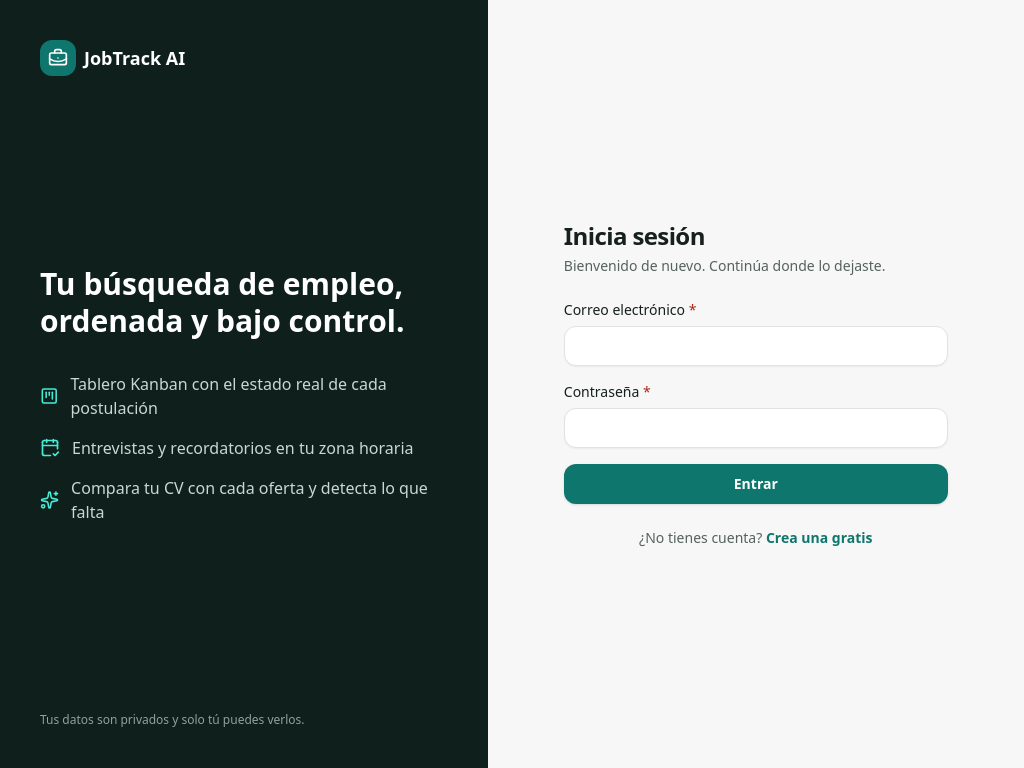
Test case: login › shows the API error for wrong credentials
Type "ana@test.local" into the field labelled "Correo electrónico *" at [756, 346], box [564, 326, 948, 366]
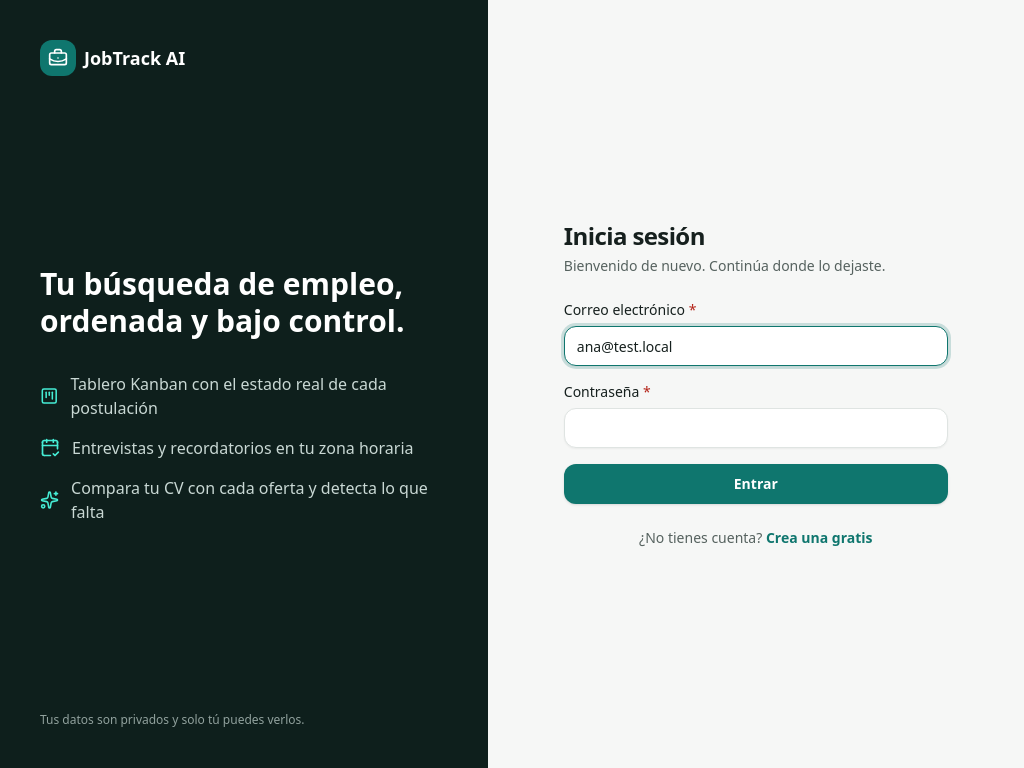
Type "Wrong123" into the password field labelled "Contraseña *" at [756, 428], box [564, 408, 948, 448]
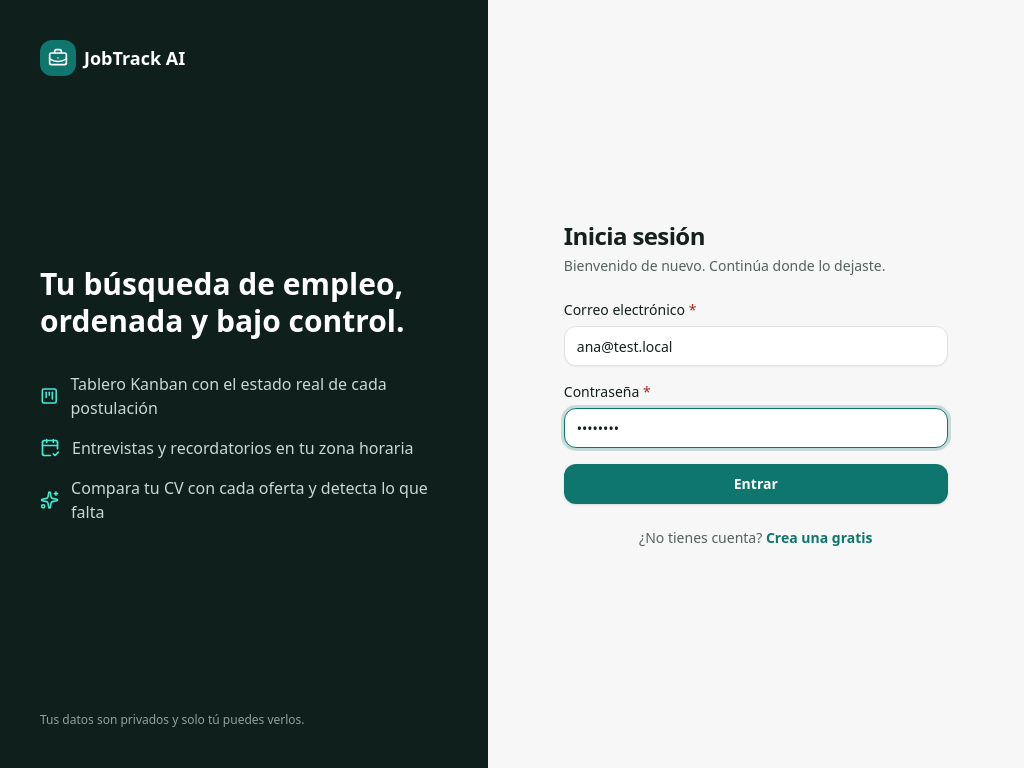
Click the button "Entrar" at [756, 484], box [564, 464, 948, 504]
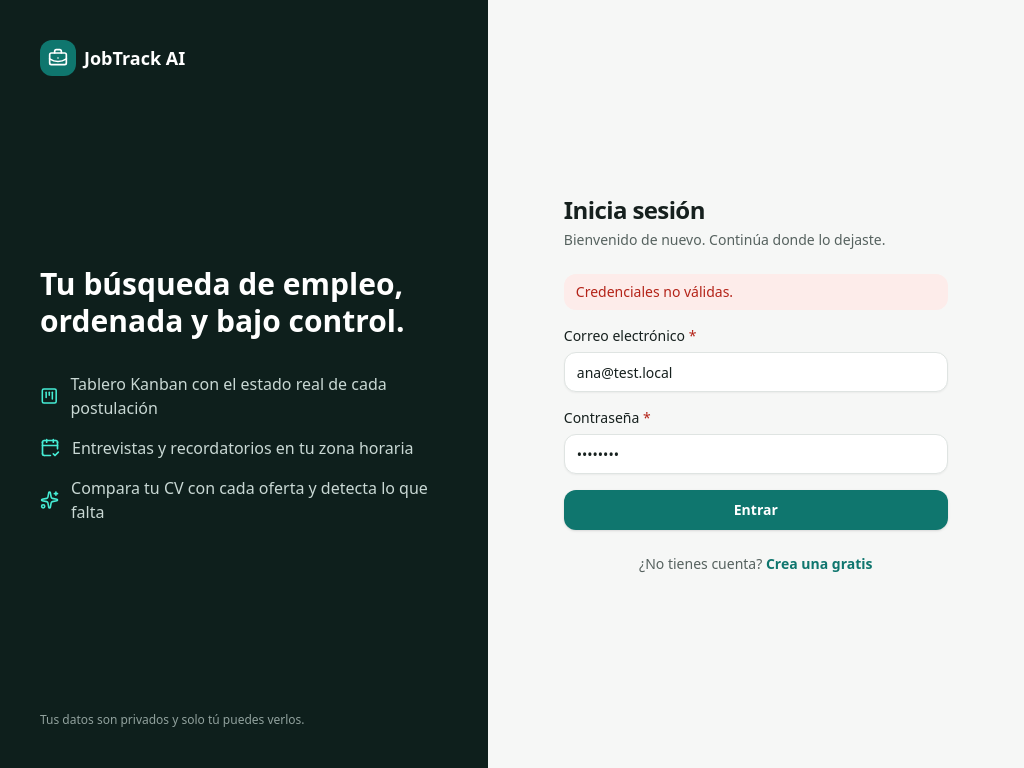
Expected: the message reads "Credenciales no válidas.", [576, 282, 733, 301]
